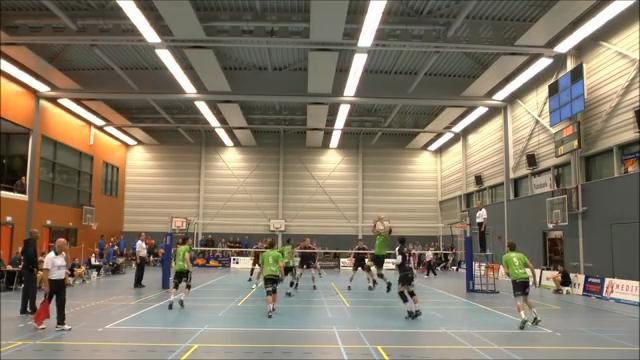Player: (502, 242, 540, 329), (395, 237, 421, 318), (260, 239, 283, 317), (168, 237, 191, 309), (348, 239, 371, 289), (294, 238, 315, 289), (278, 238, 295, 296), (248, 239, 263, 281), (313, 241, 323, 277)
Set: (364, 211, 395, 294)
ball: (374, 213, 385, 221)
